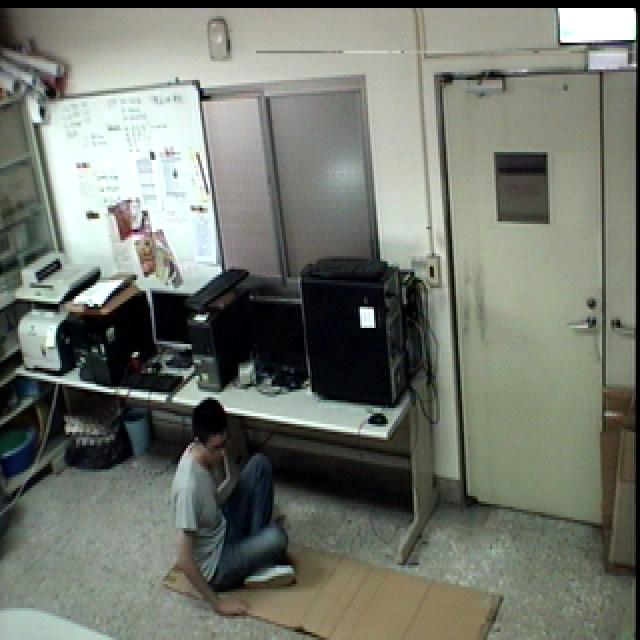sit: (166, 392, 299, 619)
